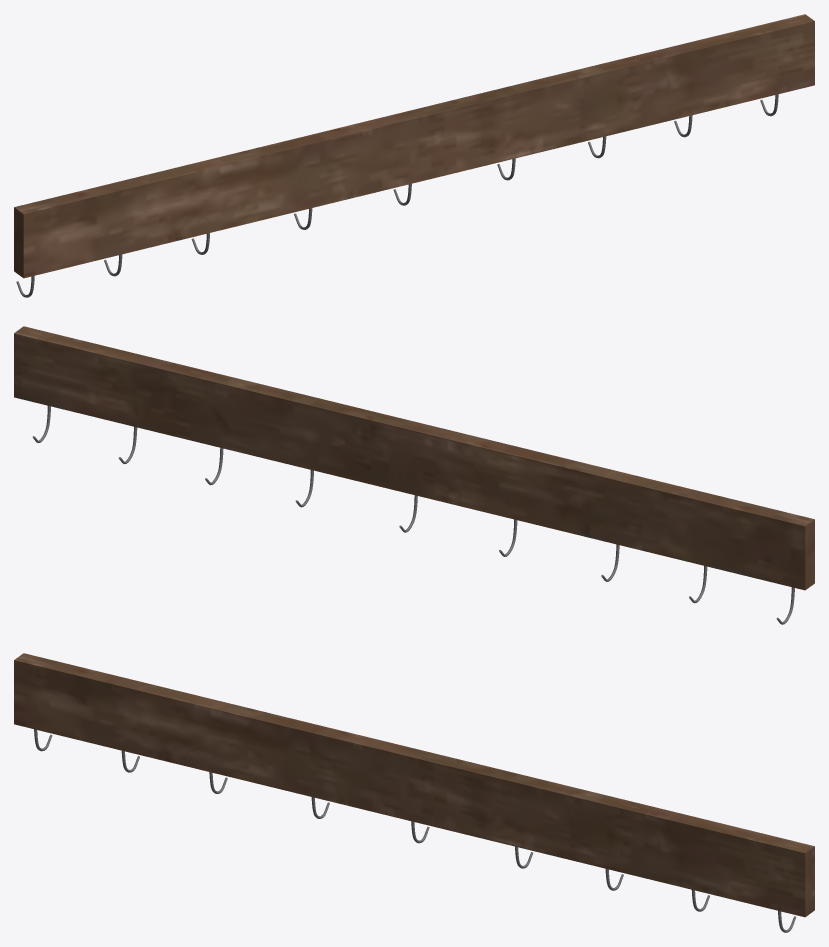
File: ropa_wooden_tool_hanger.glb
3 views of the same model, one above another, from view 1: azimuth 30°, elevation 25°; view 2: azimuth 150°, elevation 25°; view 3: azimuth 330°, elevation 25° (orthographic).
Parts seen in each view (by area): view 1: sweep4_lambertHouse_0; view 2: sweep4_lambertHouse_0; view 3: sweep4_lambertHouse_0.
Part boxes in pixels (x1,y1,x2,y2): sweep4_lambertHouse_0: [14, 14, 814, 297]; sweep4_lambertHouse_0: [14, 326, 814, 624]; sweep4_lambertHouse_0: [14, 653, 814, 932].
Bounding box in the file's own units: 1 × 0.1176 × 0.0487.
Materials: 1 (1 with a texture image).
